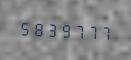eight: (30, 18, 42, 38)
five: (17, 17, 29, 38)
nine: (56, 19, 68, 40)
seven: (82, 20, 94, 41), (95, 21, 107, 42), (69, 20, 81, 40)
three: (43, 18, 55, 39)
